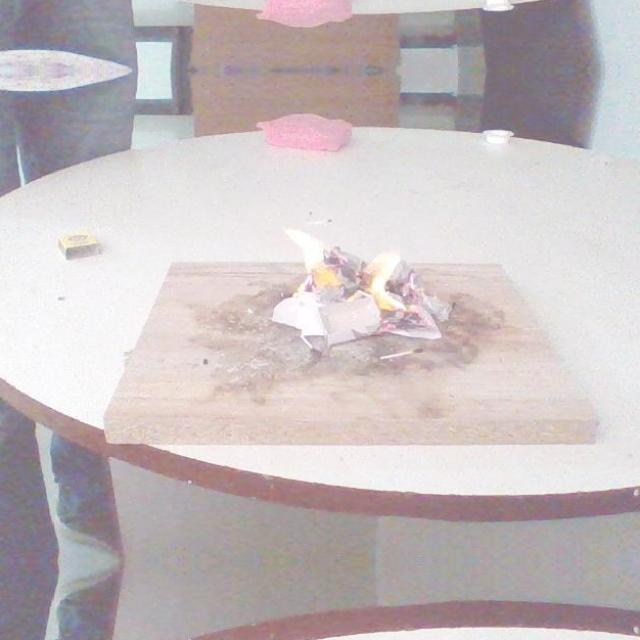smoke: (284, 227, 346, 286), (362, 250, 414, 314)
